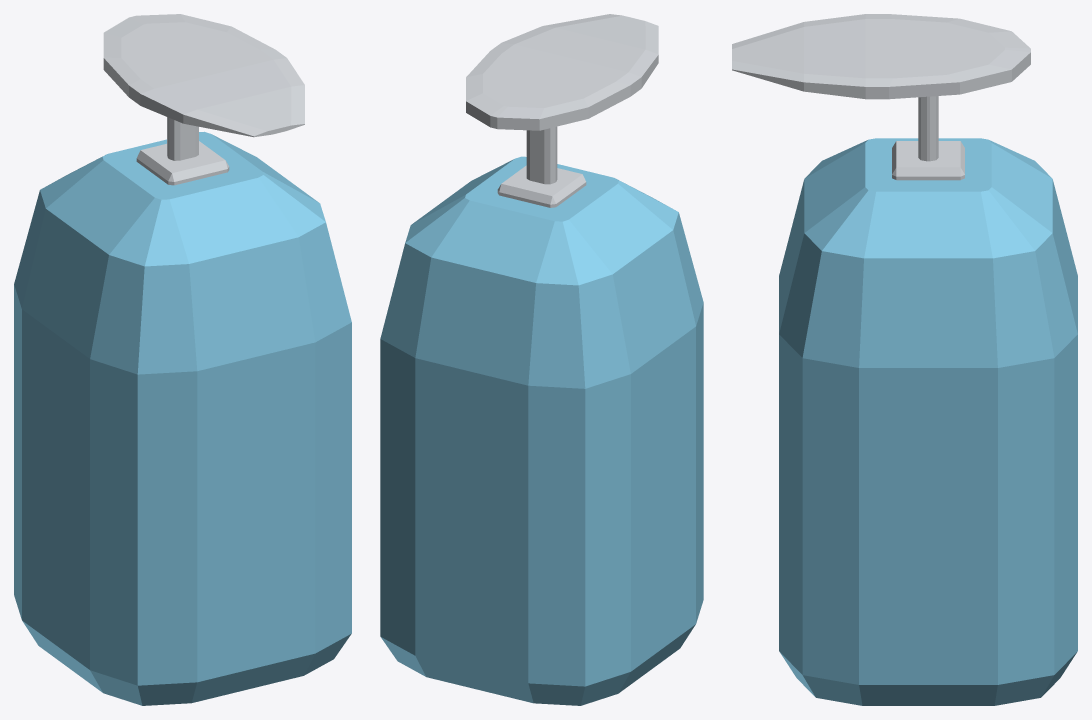
File: Shampoo3.fbx
3 views of the same model, side by side, from view 1: azimuth 30°, elevation 25°; view 2: azimuth 150°, elevation 25°; view 3: azimuth 270°, elevation 25° (orthographic). The views are drawn at different scales.
Visible parts, largest first — view 1: Shampoo3.001; view 2: Shampoo3.001; view 3: Shampoo3.001.
Part boxes in pixels (box(x1,y1,x2,y2)): Shampoo3.001: box(14, 14, 351, 705); Shampoo3.001: box(380, 14, 703, 705); Shampoo3.001: box(732, 14, 1077, 705).
Bounding box in the file's own units: 14.31 × 16.56 × 31.78.
